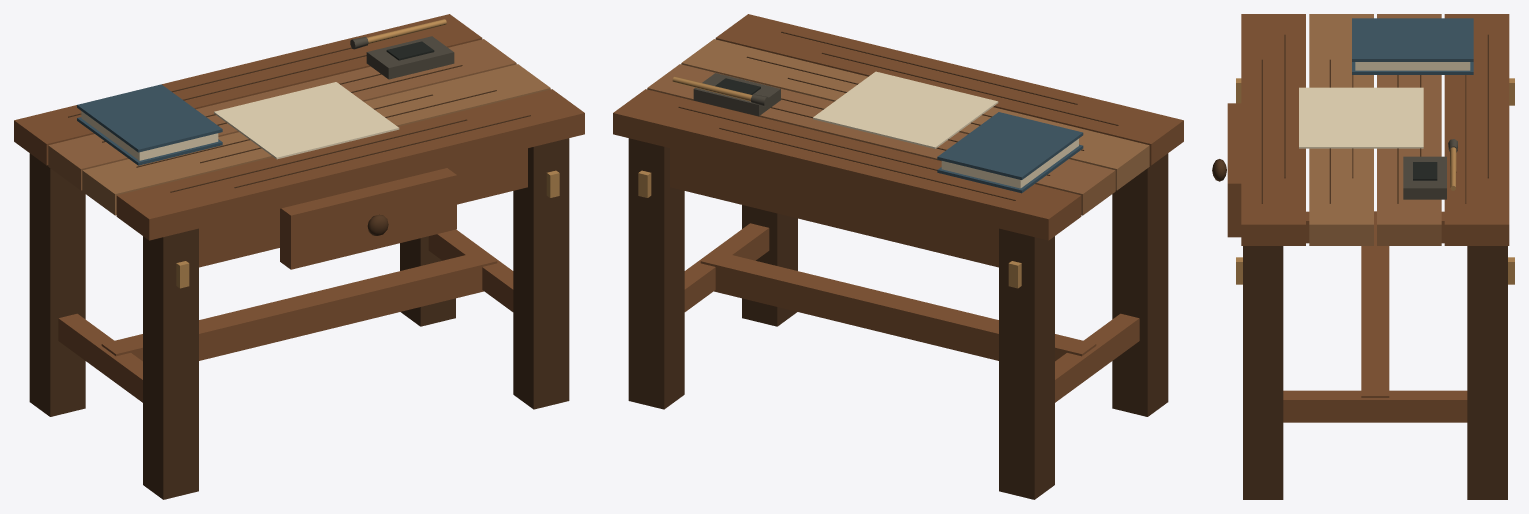
The model's file is LV_BAN_HOC_GO_01.glb.
The picture shows the model from 3 angles, left to right: view 1: azimuth 30°, elevation 25°; view 2: azimuth 150°, elevation 25°; view 3: azimuth 270°, elevation 25°; orthographic projection.
Visible parts, largest first — view 1: LV_BAN_HOC_GO_01-surface-825331, LV_BAN_HOC_GO_01-surface-50351f, LV_BAN_HOC_GO_01-surface-9d7048, LV_BAN_HOC_GO_01-surface-ead9b8, LV_BAN_HOC_GO_01-surface-936540, LV_BAN_HOC_GO_01-surface-3d5664, LV_BAN_HOC_GO_01-surface-514b40, LV_BAN_HOC_GO_01-surface-b68850; view 2: LV_BAN_HOC_GO_01-surface-825331, LV_BAN_HOC_GO_01-surface-50351f, LV_BAN_HOC_GO_01-surface-ead9b8, LV_BAN_HOC_GO_01-surface-9d7048, LV_BAN_HOC_GO_01-surface-936540, LV_BAN_HOC_GO_01-surface-3d5664, LV_BAN_HOC_GO_01-surface-514b40, LV_BAN_HOC_GO_01-surface-b68850; view 3: LV_BAN_HOC_GO_01-surface-825331, LV_BAN_HOC_GO_01-surface-50351f, LV_BAN_HOC_GO_01-surface-9d7048, LV_BAN_HOC_GO_01-surface-ead9b8, LV_BAN_HOC_GO_01-surface-936540, LV_BAN_HOC_GO_01-surface-3d5664, LV_BAN_HOC_GO_01-surface-514b40, LV_BAN_HOC_GO_01-surface-b68850, LV_BAN_HOC_GO_01-surface-252925.
Part boxes in pixels (x1,y1,x2,y2): LV_BAN_HOC_GO_01-surface-825331: [14, 14, 584, 402]; LV_BAN_HOC_GO_01-surface-50351f: [29, 47, 569, 499]; LV_BAN_HOC_GO_01-surface-9d7048: [82, 64, 550, 215]; LV_BAN_HOC_GO_01-surface-ead9b8: [81, 82, 399, 160]; LV_BAN_HOC_GO_01-surface-936540: [48, 39, 516, 190]; LV_BAN_HOC_GO_01-surface-3d5664: [77, 84, 222, 165]; LV_BAN_HOC_GO_01-surface-514b40: [350, 36, 454, 79]; LV_BAN_HOC_GO_01-surface-b68850: [176, 19, 559, 288]; LV_BAN_HOC_GO_01-surface-825331: [613, 14, 1183, 402]; LV_BAN_HOC_GO_01-surface-50351f: [628, 31, 1168, 499]; LV_BAN_HOC_GO_01-surface-ead9b8: [813, 71, 1078, 188]; LV_BAN_HOC_GO_01-surface-9d7048: [681, 39, 1149, 190]; LV_BAN_HOC_GO_01-surface-936540: [647, 64, 1115, 215]; LV_BAN_HOC_GO_01-surface-3d5664: [937, 112, 1083, 193]; LV_BAN_HOC_GO_01-surface-514b40: [693, 73, 780, 116]; LV_BAN_HOC_GO_01-surface-b68850: [638, 76, 1021, 288]; LV_BAN_HOC_GO_01-surface-825331: [1227, 14, 1509, 422]; LV_BAN_HOC_GO_01-surface-50351f: [1212, 34, 1507, 499]; LV_BAN_HOC_GO_01-surface-9d7048: [1309, 14, 1373, 245]; LV_BAN_HOC_GO_01-surface-ead9b8: [1299, 62, 1470, 148]; LV_BAN_HOC_GO_01-surface-936540: [1377, 14, 1441, 245]; LV_BAN_HOC_GO_01-surface-3d5664: [1352, 18, 1473, 74]; LV_BAN_HOC_GO_01-surface-514b40: [1403, 139, 1457, 199]; LV_BAN_HOC_GO_01-surface-b68850: [1236, 78, 1514, 284]; LV_BAN_HOC_GO_01-surface-252925: [1413, 162, 1437, 180].
Size of the model in its own units: 1.6 by 1.09 by 0.9715.
